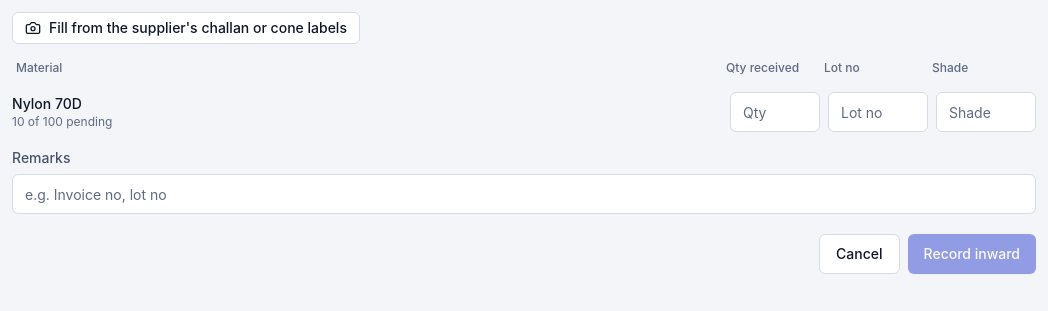
Scenario: recording an inward that exceeds the order › measures the excess against the order, not what is still pending
The width and height of the screenshot is (1048, 311).
In the number field named "Quantity received for Nylon 70D": (775, 112) [730,92,820,132], type "12"
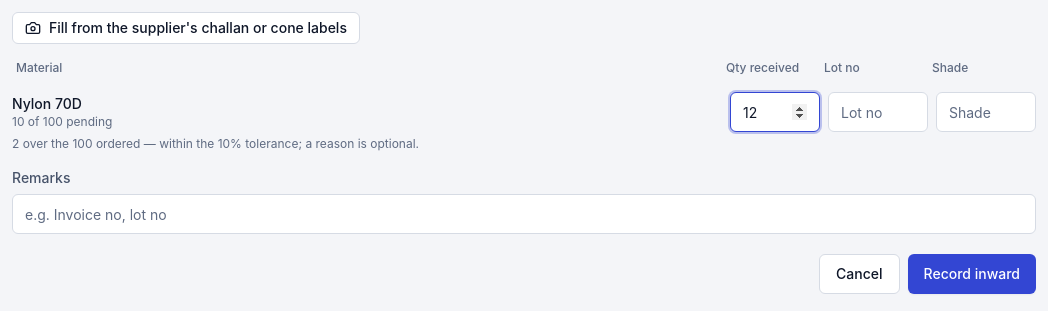
Now the text "2 over the 100 ordered" is shown, box [12,136,419,151]
Now the text "within the 10% tolerance" is shown, box [140,136,419,151]
Now the button "Record inward" is enabled, box [908,254,1036,294]
